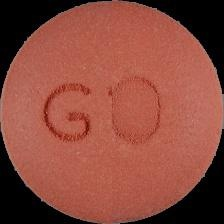45865-445: (0, 0, 224, 224)
